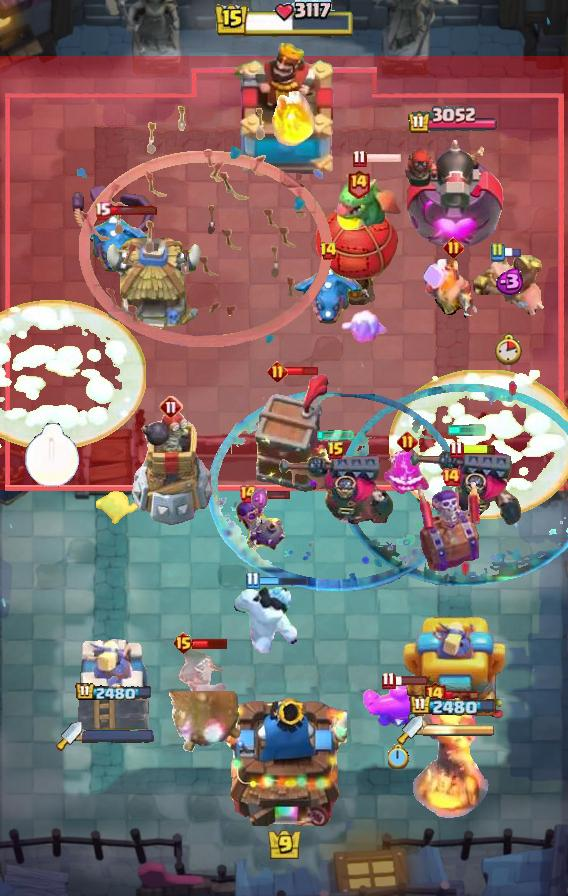bar: (401, 611, 505, 731), (77, 637, 151, 731)
bat: (96, 491, 140, 529)
cannon-cart: (316, 203, 400, 305)
clock: (213, 0, 355, 40)
dart-goblin: (252, 374, 330, 494)
electro-dragon: (411, 693, 489, 821)
electro-spirit: (491, 268, 525, 295), (250, 487, 269, 511)
electro-wizard: (334, 160, 402, 230)
elixir: (24, 424, 80, 489), (494, 333, 522, 365), (387, 743, 408, 769)
emote: (257, 575, 309, 587), (108, 204, 158, 216), (191, 637, 228, 651), (461, 443, 497, 456), (365, 152, 402, 164), (284, 365, 320, 377), (393, 674, 429, 686), (256, 488, 291, 500), (444, 691, 479, 702), (502, 246, 521, 258)
freeze: (469, 254, 547, 322)
goblin-ball: (233, 497, 287, 553)
graveyard: (292, 264, 364, 328), (78, 213, 150, 275)
ice-spirit: (445, 424, 487, 436), (316, 429, 356, 441)
inferno-tower: (408, 445, 524, 531), (276, 453, 396, 529)
king-tower: (221, 690, 347, 826), (228, 41, 340, 181)
king-tower-bar: (423, 723, 495, 737), (82, 729, 154, 743)
mighty-miner: (422, 259, 484, 325)
mirror: (339, 309, 389, 347)
pad_0: (209, 389, 463, 591), (340, 384, 568, 590)
phoenix-big: (388, 370, 568, 519), (0, 300, 146, 448)
prince: (102, 238, 204, 334)
rage: (233, 583, 297, 653)
selected: (407, 106, 499, 135), (409, 694, 497, 718), (75, 681, 153, 702)
skeleton-barrel: (78, 104, 332, 348)
skeleton-king-bar: (418, 477, 484, 571)
spear-goblin: (381, 447, 433, 501)
tesla: (173, 646, 227, 698)
text: (346, 168, 371, 199), (422, 681, 447, 712), (159, 395, 183, 419), (173, 631, 196, 655), (444, 238, 465, 259), (268, 362, 289, 383), (398, 432, 419, 453), (441, 467, 461, 487), (238, 484, 258, 504), (319, 241, 338, 261), (327, 441, 345, 461), (489, 242, 505, 262), (93, 201, 110, 219), (381, 671, 396, 690), (353, 148, 367, 167), (245, 570, 259, 589), (449, 441, 463, 459)
tornado: (362, 680, 434, 730)
tower-bar: (401, 132, 508, 256)
valkyrie: (267, 83, 317, 149)
x-bow: (163, 691, 245, 754)
zappy: (129, 408, 213, 530)
